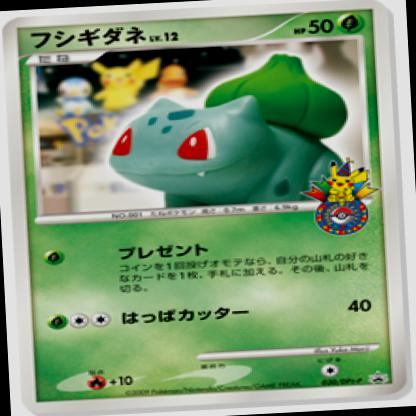Bulbasaur: (96, 45, 362, 209)
